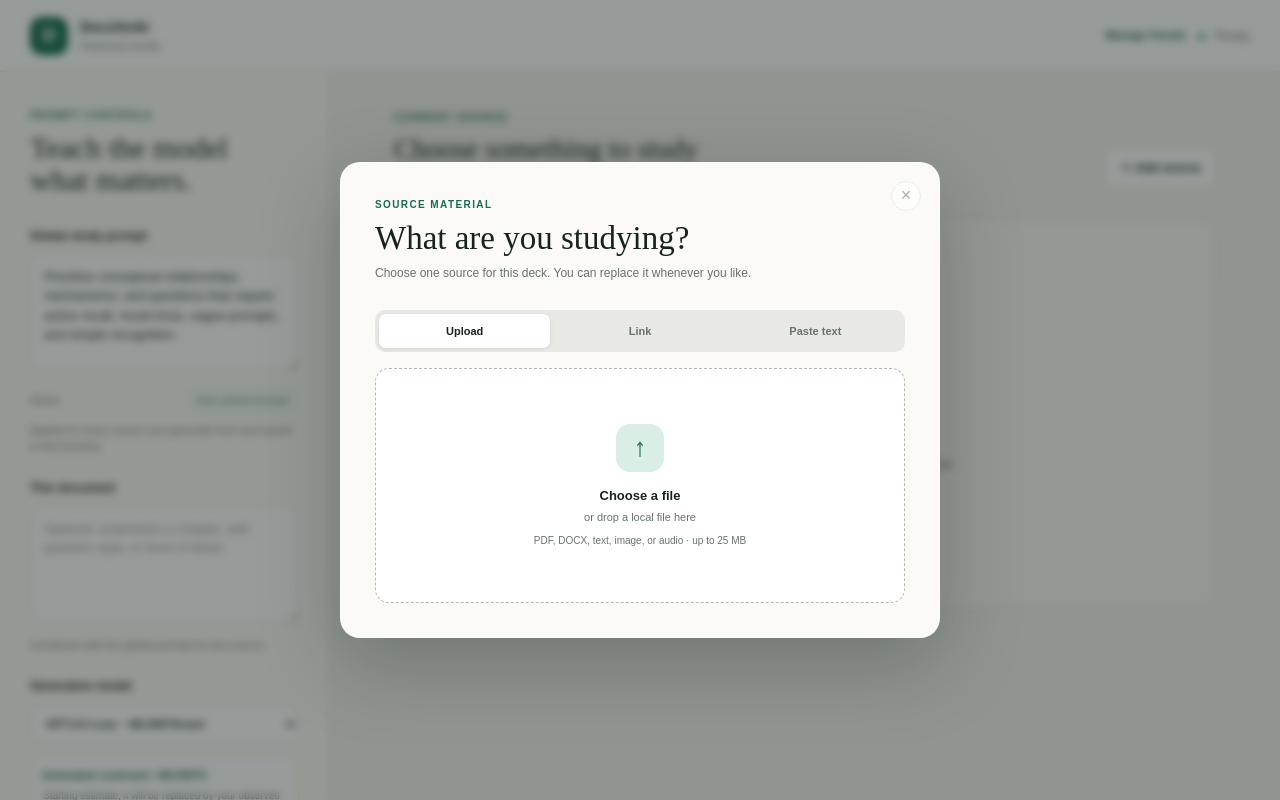
it: candidate review › turns a plain-text 413 response into a clear upload error
Click the button "Paste text": click(815, 331) left=730, top=314, right=901, bottom=348
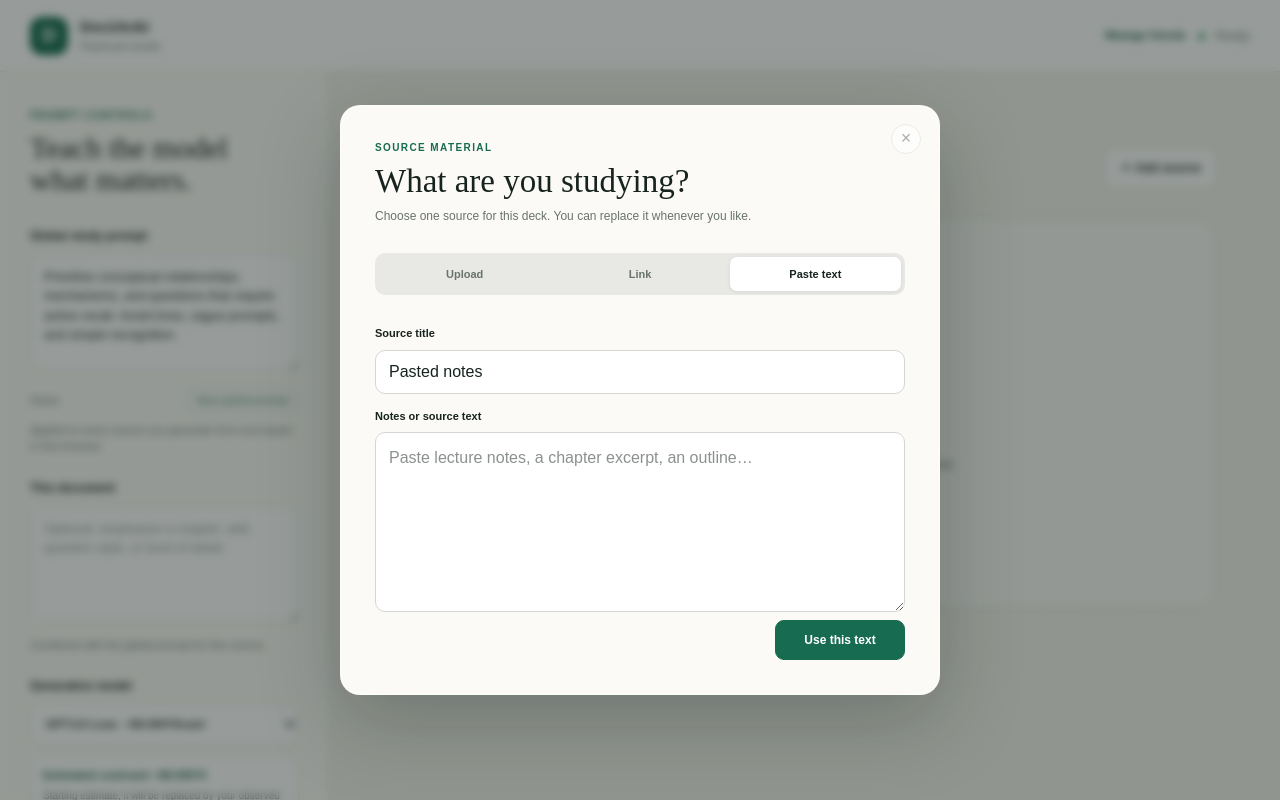
In the text box labelled "Notes or source text": (640, 522) left=375, top=432, right=905, bottom=612, type "This is a sufficiently long source paragraph for exercising response error handling safely."
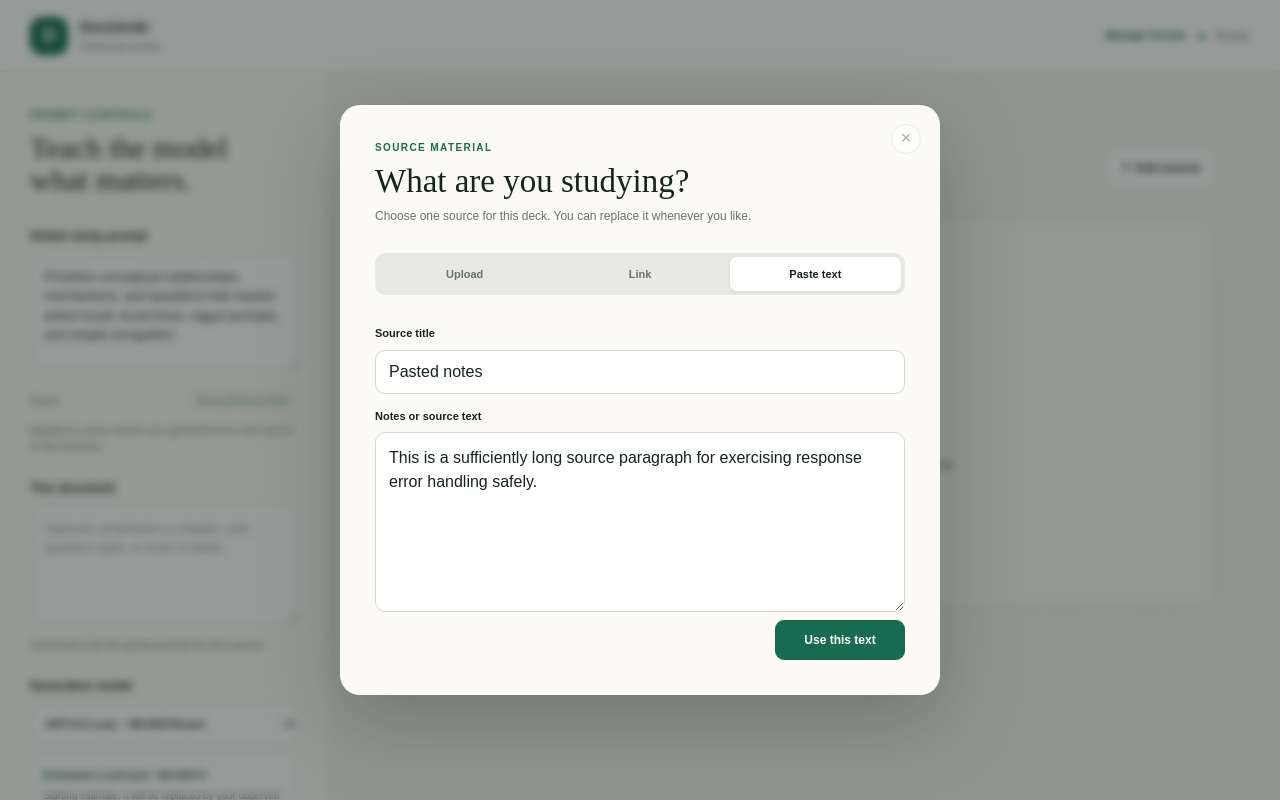
Click the button "Use this text": click(840, 640) left=775, top=620, right=905, bottom=660
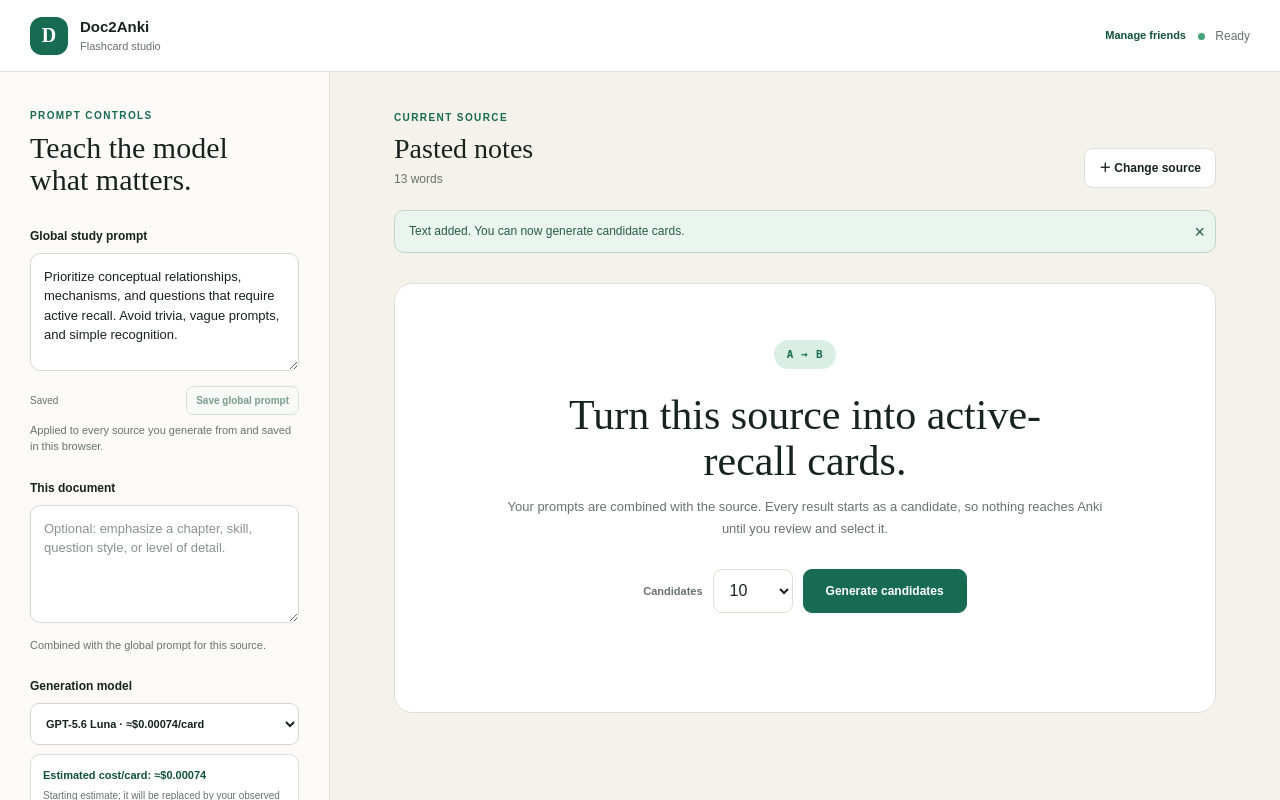
Click the button "Generate candidates": click(885, 591) left=803, top=569, right=967, bottom=613
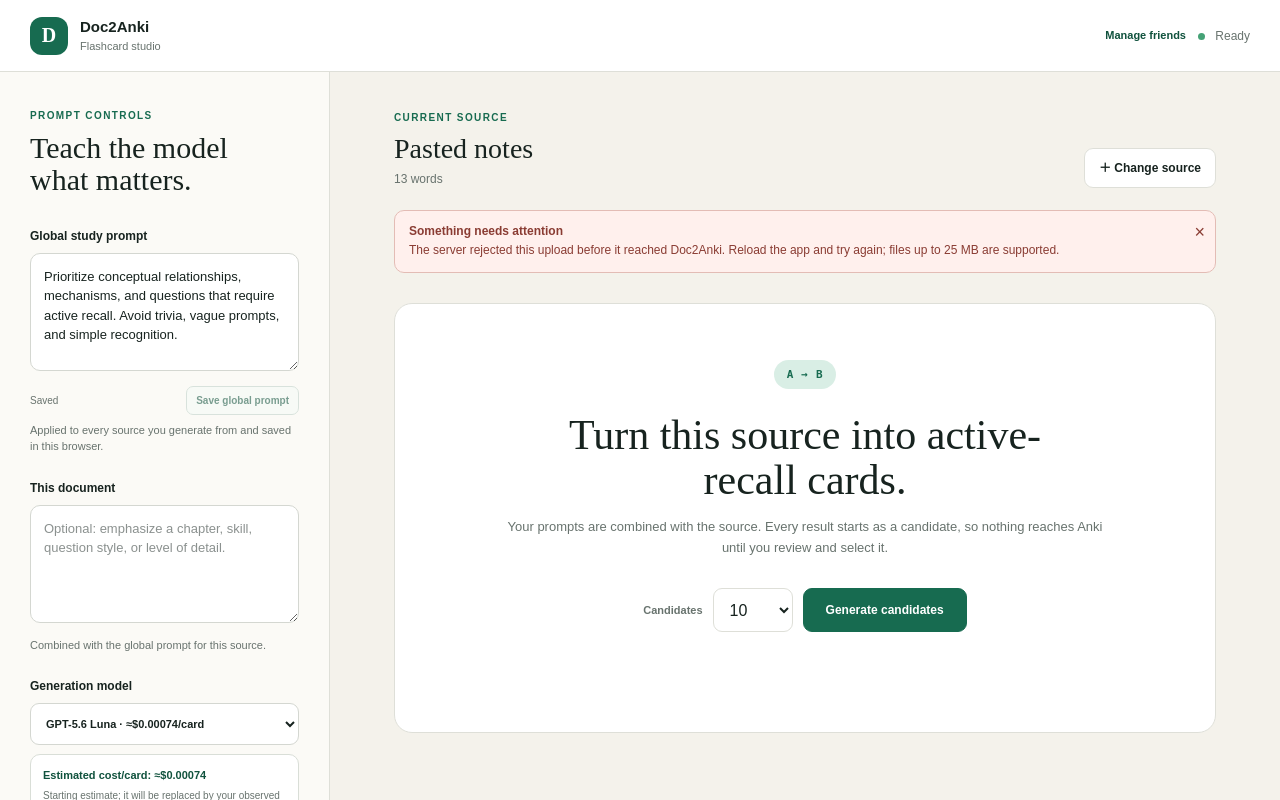
Result: the message shows "server rejected this upload" at left=409, top=243, right=1059, bottom=257
